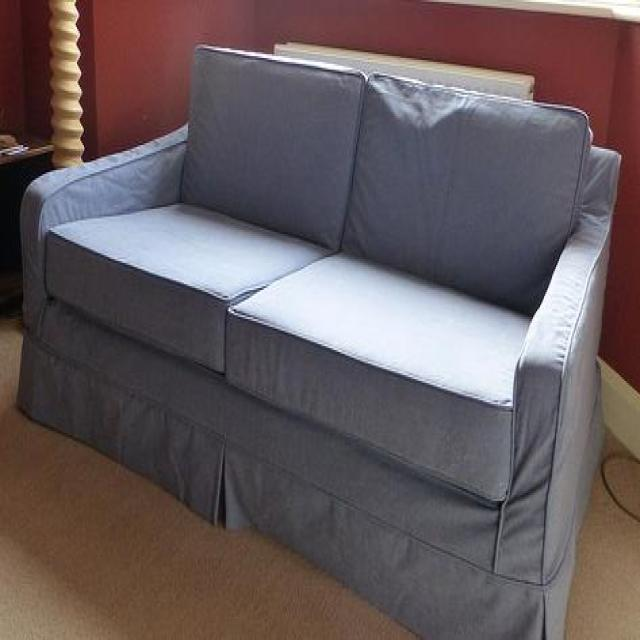sofa: (12, 40, 621, 640)
